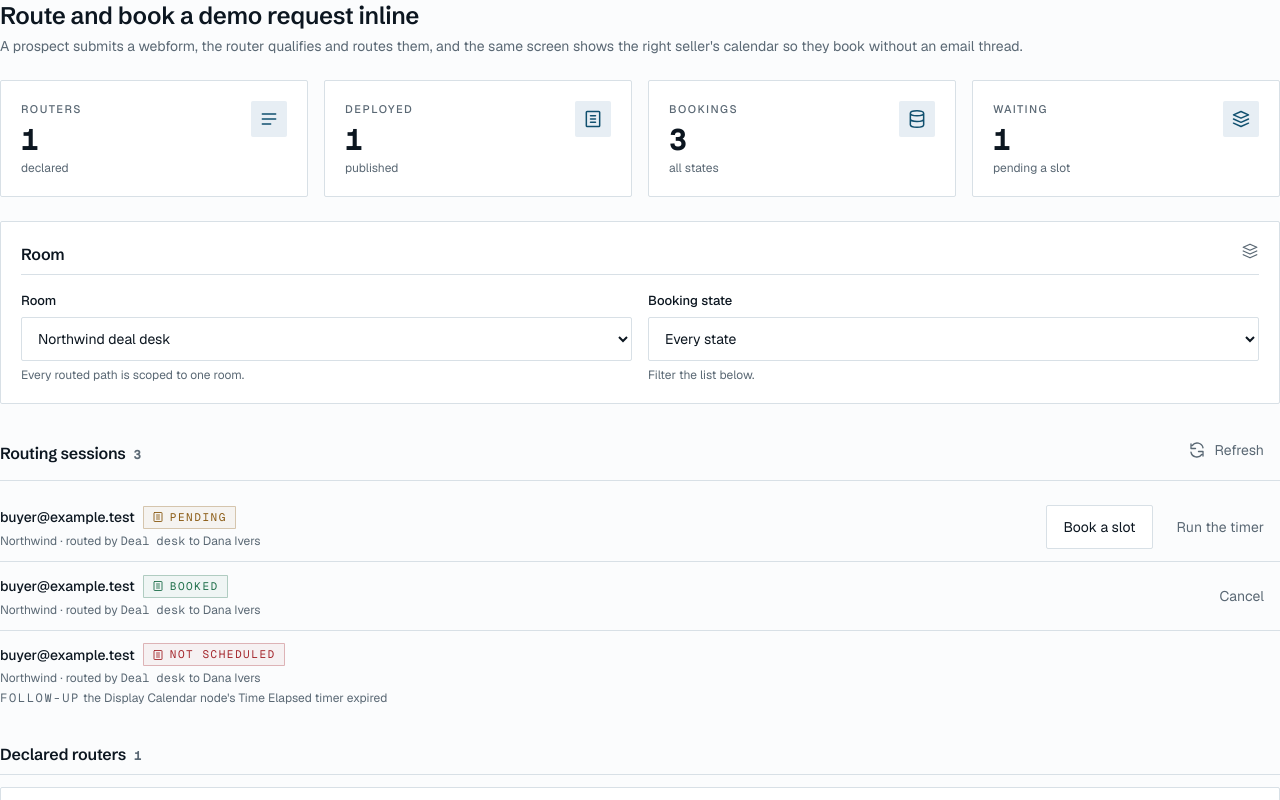
booking a slot › offers the slots the matched Display Calendar node offered
Expected: the heading "Route and book a demo request inline" is shown, [0,1,419,30]
What coordinates should you click on to do the following:
click the button "Book a slot"
I would click on:
 (1100, 527)
Its box is [1046,505,1153,549].
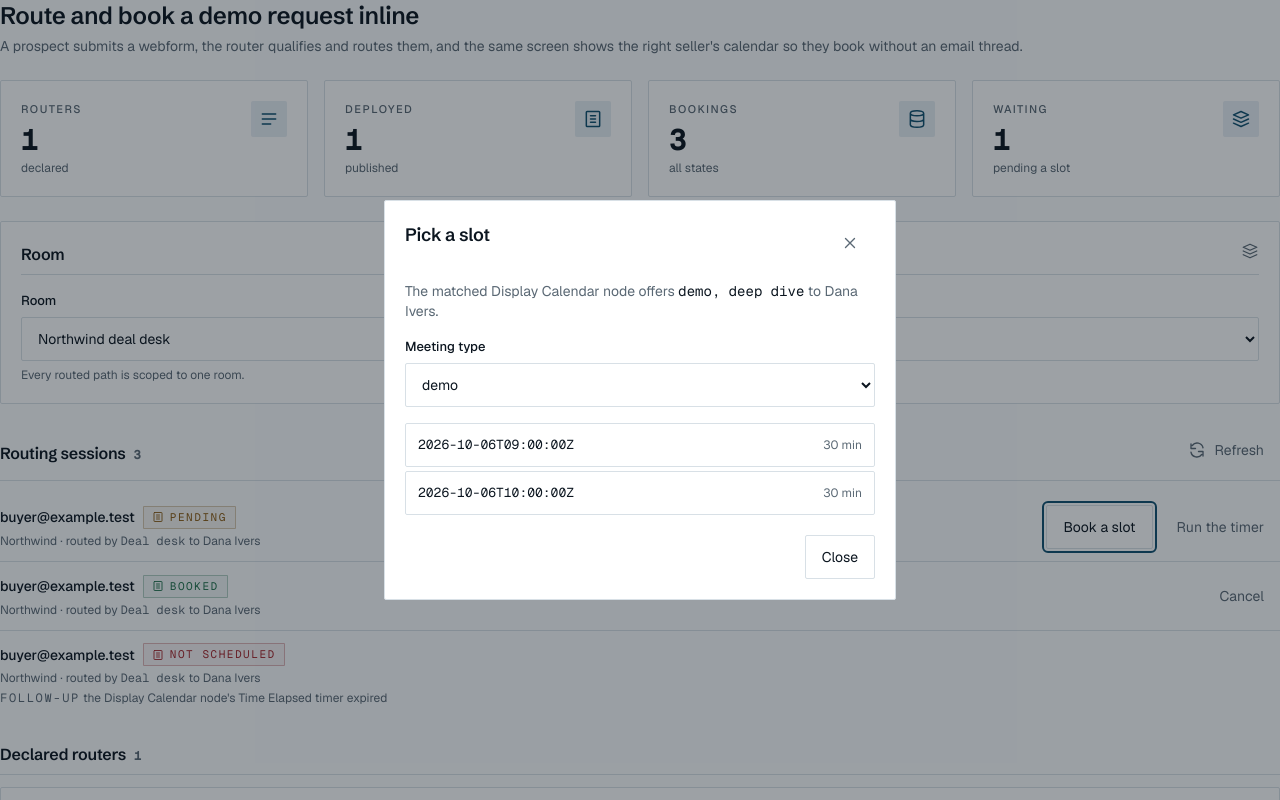
Now the text "2026-10-06T09:00:00Z" is shown, box [418,436,574,454]
Now the text "2026-10-06T10:00:00Z" is shown, box [418,484,574,502]
